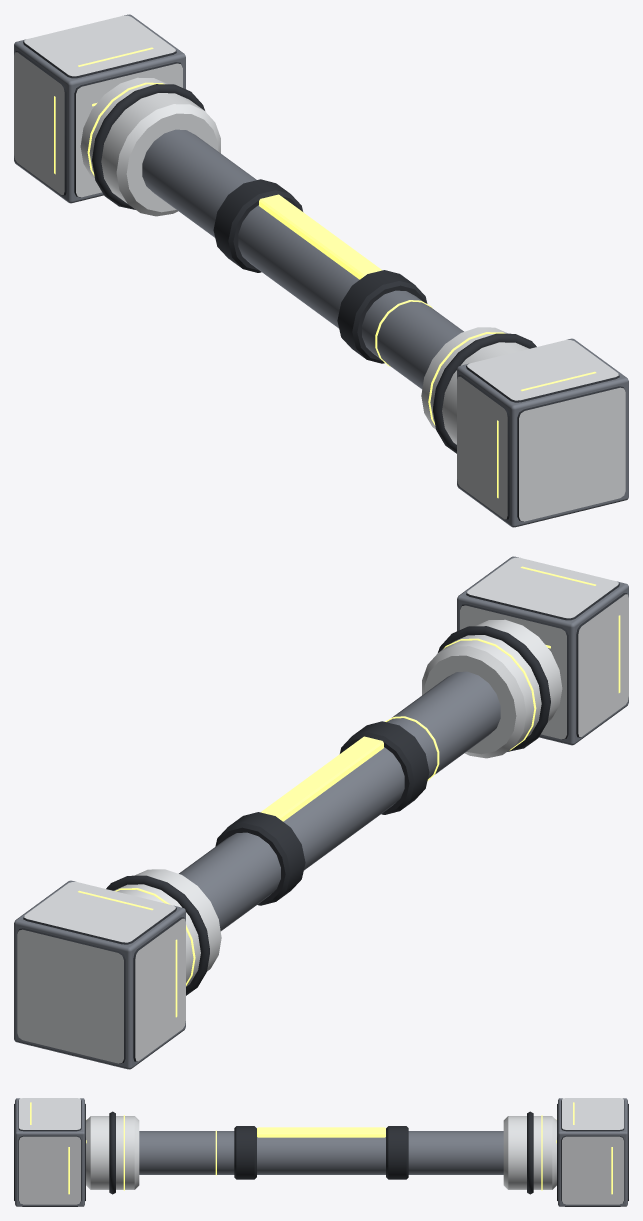
The model's file is R4C_ROD_STANDARD.fbx.
3 views of the same model, one above another, from view 1: azimuth 30°, elevation 25°; view 2: azimuth 150°, elevation 25°; view 3: azimuth 270°, elevation 25° (orthographic). The views are drawn at different scales.
Visible parts, largest first — view 1: R4C_ROD_STANDARD; view 2: R4C_ROD_STANDARD; view 3: R4C_ROD_STANDARD.
Boxes of the visible parts, x1=… form: R4C_ROD_STANDARD: x1=14, y1=14, x2=628, y2=527; R4C_ROD_STANDARD: x1=14, y1=556, x2=628, y2=1069; R4C_ROD_STANDARD: x1=14, y1=1098, x2=628, y2=1206.
Size of the model in its own units: 0.2284 by 0.2264 by 1.62.
